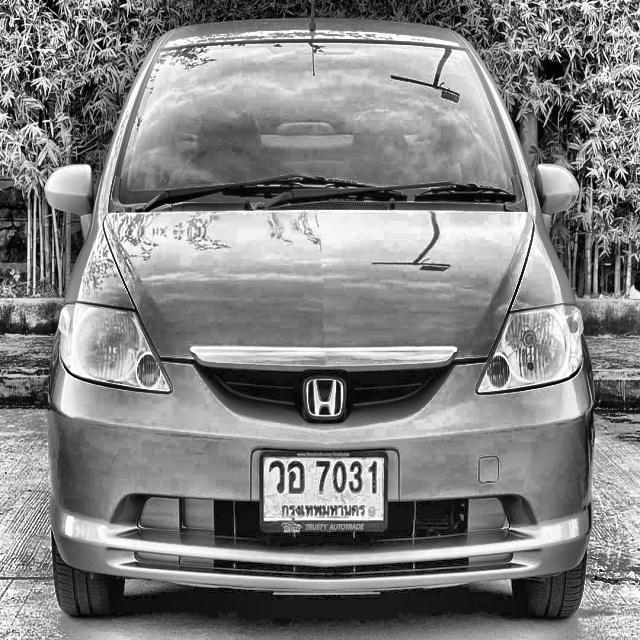license-plate: (258, 446, 388, 536)
